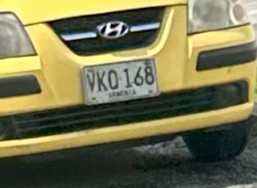number plate: (0, 0, 255, 158), (83, 59, 157, 104)
